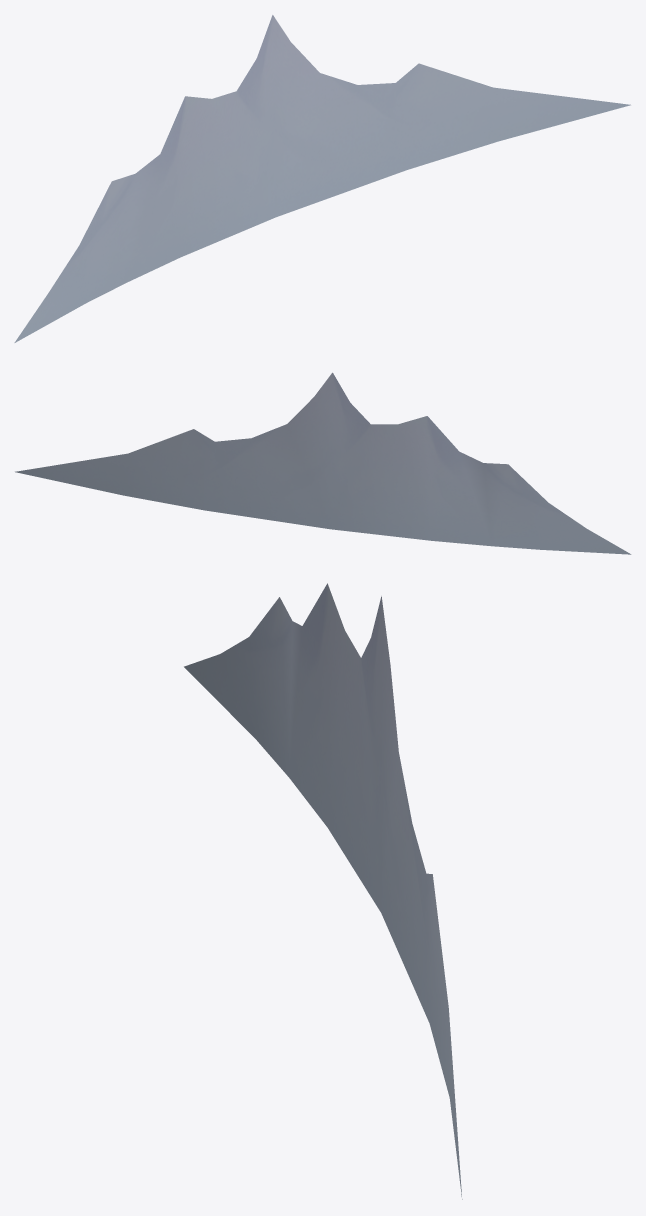
The model's file is sucai_15.FBX.
3 views of the same model, one above another, from view 1: azimuth 30°, elevation 25°; view 2: azimuth 150°, elevation 25°; view 3: azimuth 270°, elevation 25° (orthographic). The views are drawn at different scales.
Visible parts, largest first — view 1: sucai_15; view 2: sucai_15; view 3: sucai_15.
Part boxes in pixels (x1,y1,x2,y2): sucai_15: (14, 15, 630, 342); sucai_15: (15, 372, 631, 554); sucai_15: (184, 583, 462, 1199).
Bounding box in the file's own units: 571 × 157 × 126.
